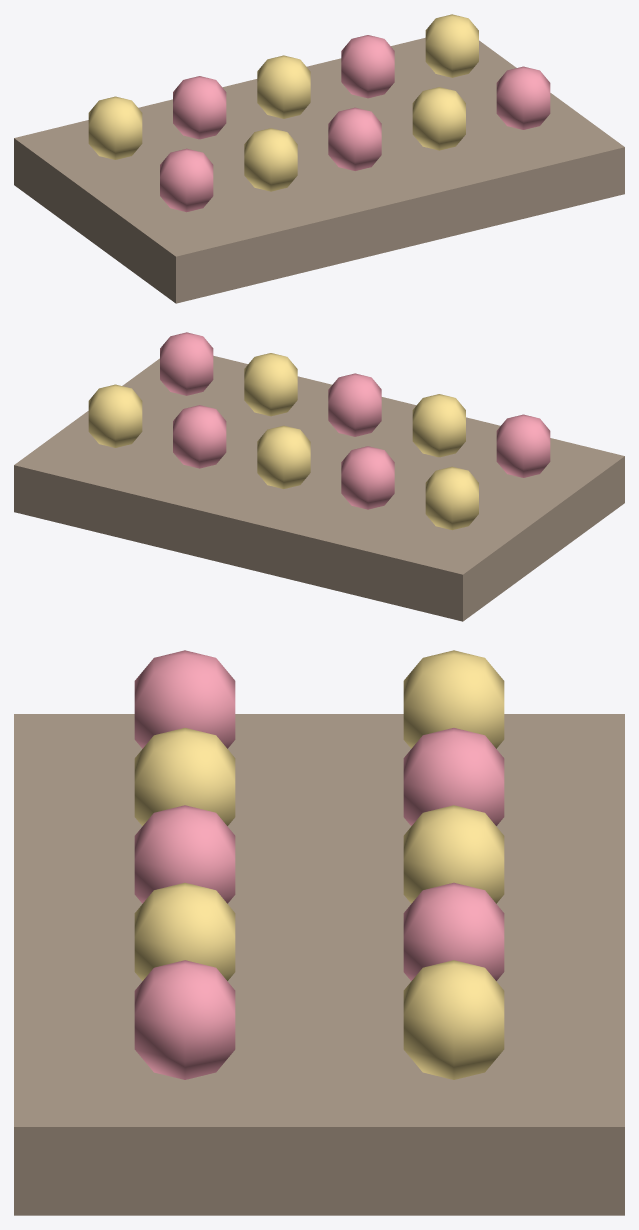
Rendered from Flowerbed.glb.
3 views of the same model, one above another, from view 1: azimuth 30°, elevation 25°; view 2: azimuth 150°, elevation 25°; view 3: azimuth 270°, elevation 25° (orthographic). The views are drawn at different scales.
Parts seen in each view (by area): view 1: model; view 2: model; view 3: model.
Part boxes in pixels (x1,y1,x2,y2): model: [14, 14, 624, 303]; model: [14, 332, 624, 621]; model: [14, 650, 624, 1215].
Size of the model in its own units: 1.6 by 0.36 by 1.
